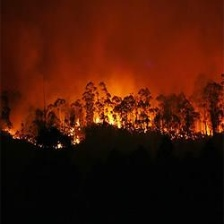fire: (5, 81, 224, 153)
